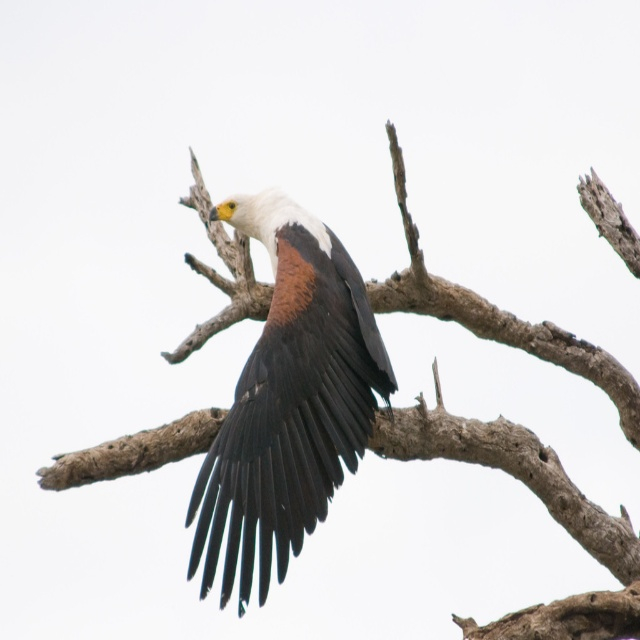Eagle: (185, 186, 399, 618)
